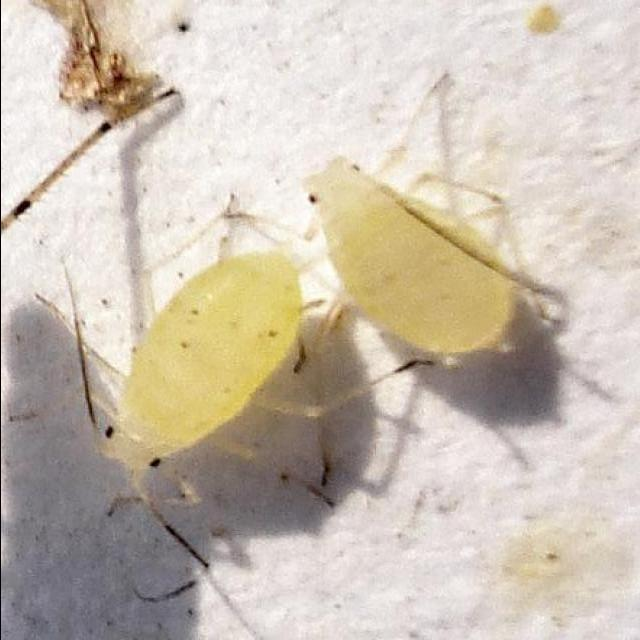aphid: (81, 242, 319, 517), (291, 119, 543, 373)
